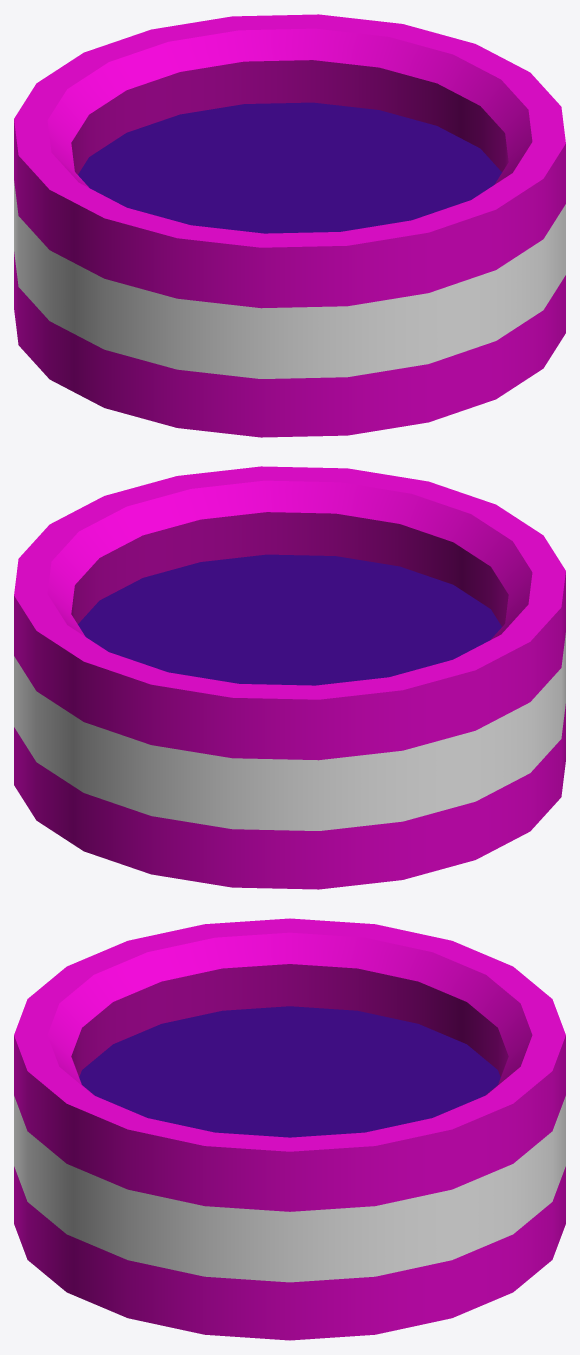
The model's file is bombObject.fbx.
3 renders of one model, top to bottom at view 1: azimuth 30°, elevation 25°; view 2: azimuth 150°, elevation 25°; view 3: azimuth 270°, elevation 25°, orthographic.
Visible parts, largest first — view 1: bombObject; view 2: bombObject; view 3: bombObject.
Part boxes in pixels (left/top/right/bottom): bombObject: left=14, top=14, right=565, bottom=437; bombObject: left=14, top=466, right=565, bottom=889; bombObject: left=14, top=918, right=565, bottom=1340.
Size of the model in its own units: 200 by 75.46 by 200.
Materials: 1 (1 with a texture image).
